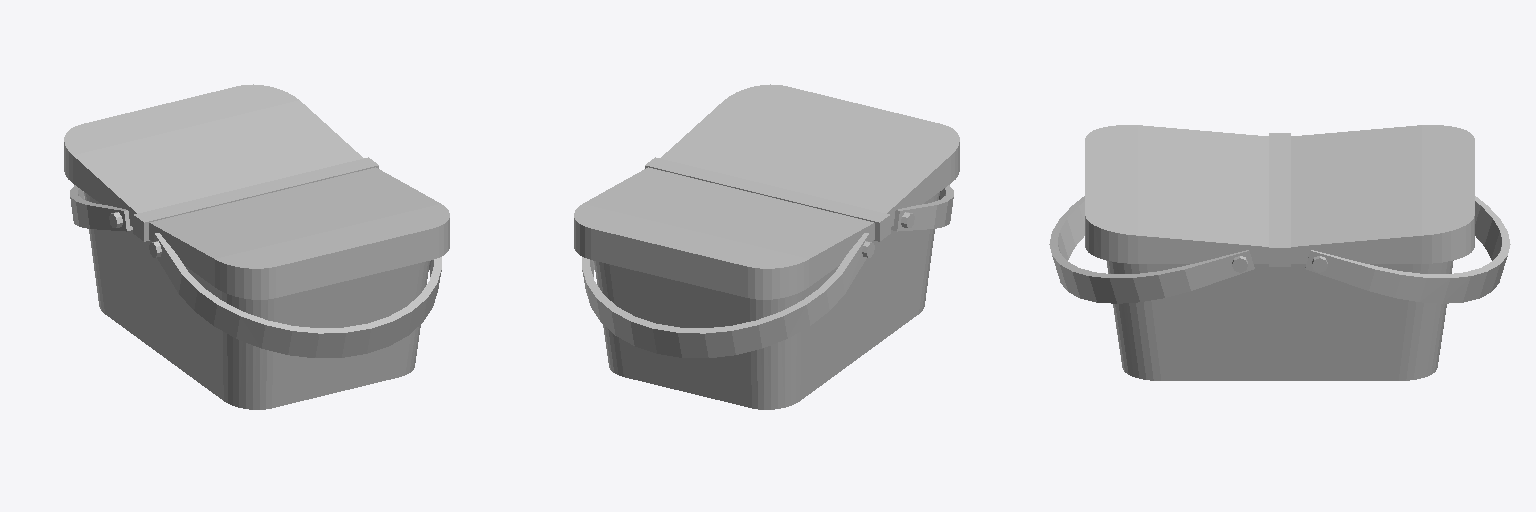
File: picnicBasket.obj
3 views of the same model, side by side, from view 1: azimuth 30°, elevation 25°; view 2: azimuth 150°, elevation 25°; view 3: azimuth 270°, elevation 25° (orthographic).
Parts seen in each view (by area): view 1: Cylinder.003, Cylinder, Cylinder.001; view 2: Cylinder.003, Cylinder, Cylinder.001; view 3: Cylinder.003, Cylinder, Cylinder.001.
Part boxes in pixels (bbox=[...]): Cylinder.003: bbox=[64, 84, 449, 299]; Cylinder: bbox=[84, 192, 429, 409]; Cylinder.001: bbox=[70, 185, 441, 357]; Cylinder.003: bbox=[574, 84, 959, 299]; Cylinder: bbox=[594, 192, 939, 409]; Cylinder.001: bbox=[582, 185, 953, 357]; Cylinder.003: bbox=[1085, 125, 1474, 266]; Cylinder: bbox=[1106, 260, 1453, 380]; Cylinder.001: bbox=[1049, 196, 1510, 303].
Bounding box in the file's own units: 11.85 × 7.31 × 19.26.